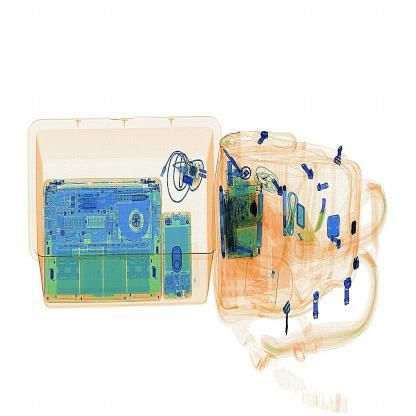wrench: (316, 194, 339, 239)
